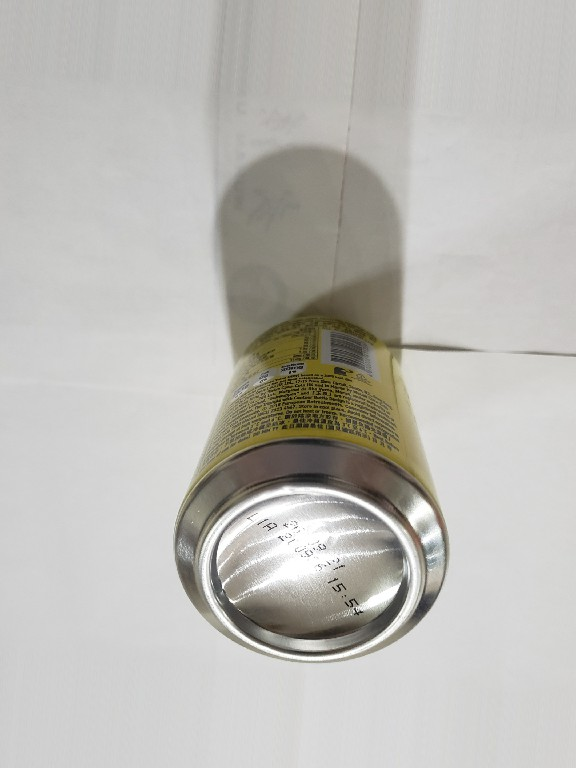can: (163, 313, 455, 667)
